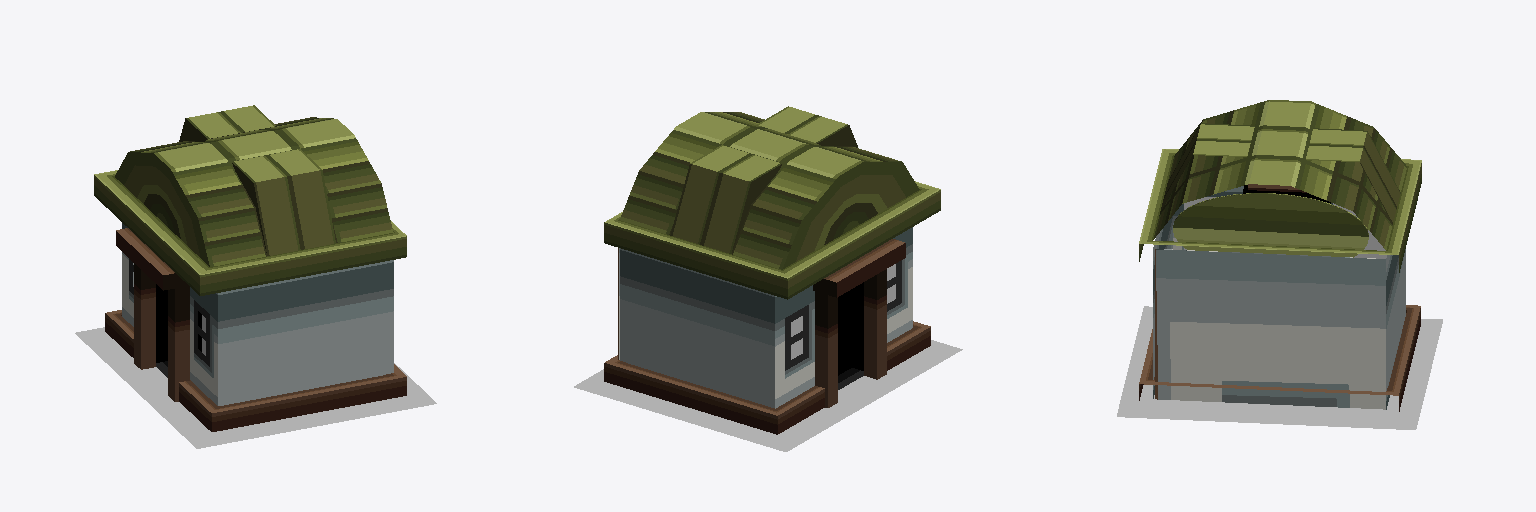
The picture shows the model from 3 angles: view 1: azimuth 30°, elevation 25°; view 2: azimuth 150°, elevation 25°; view 3: azimuth 270°, elevation 25°; orthographic projection.
Visible parts, largest first — view 1: PokemonDayCare.001; view 2: PokemonDayCare.001; view 3: PokemonDayCare.001, Cube_Cube.002, Cylinder.001.
Part boxes in pixels (left/top/right/bottom): PokemonDayCare.001: left=75, top=105, right=436, bottom=448; PokemonDayCare.001: left=574, top=106, right=962, bottom=451; PokemonDayCare.001: left=1117, top=100, right=1442, bottom=429; Cube_Cube.002: left=1155, top=249, right=1385, bottom=409; Cylinder.001: left=1173, top=193, right=1368, bottom=257.
Size of the model in its own units: 70.16 by 59.21 by 78.17.
6 materials, 2 textured.